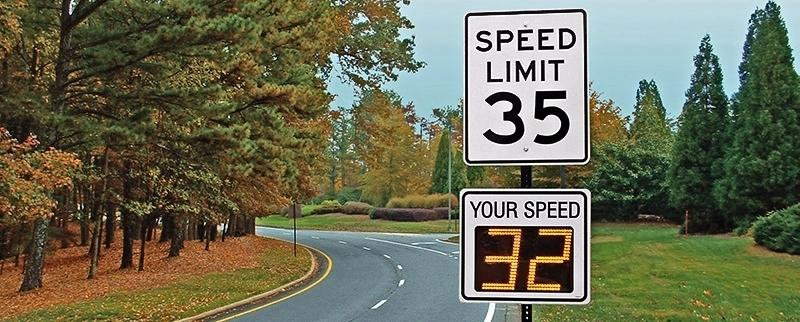speed limit sign: (461, 11, 594, 166)
